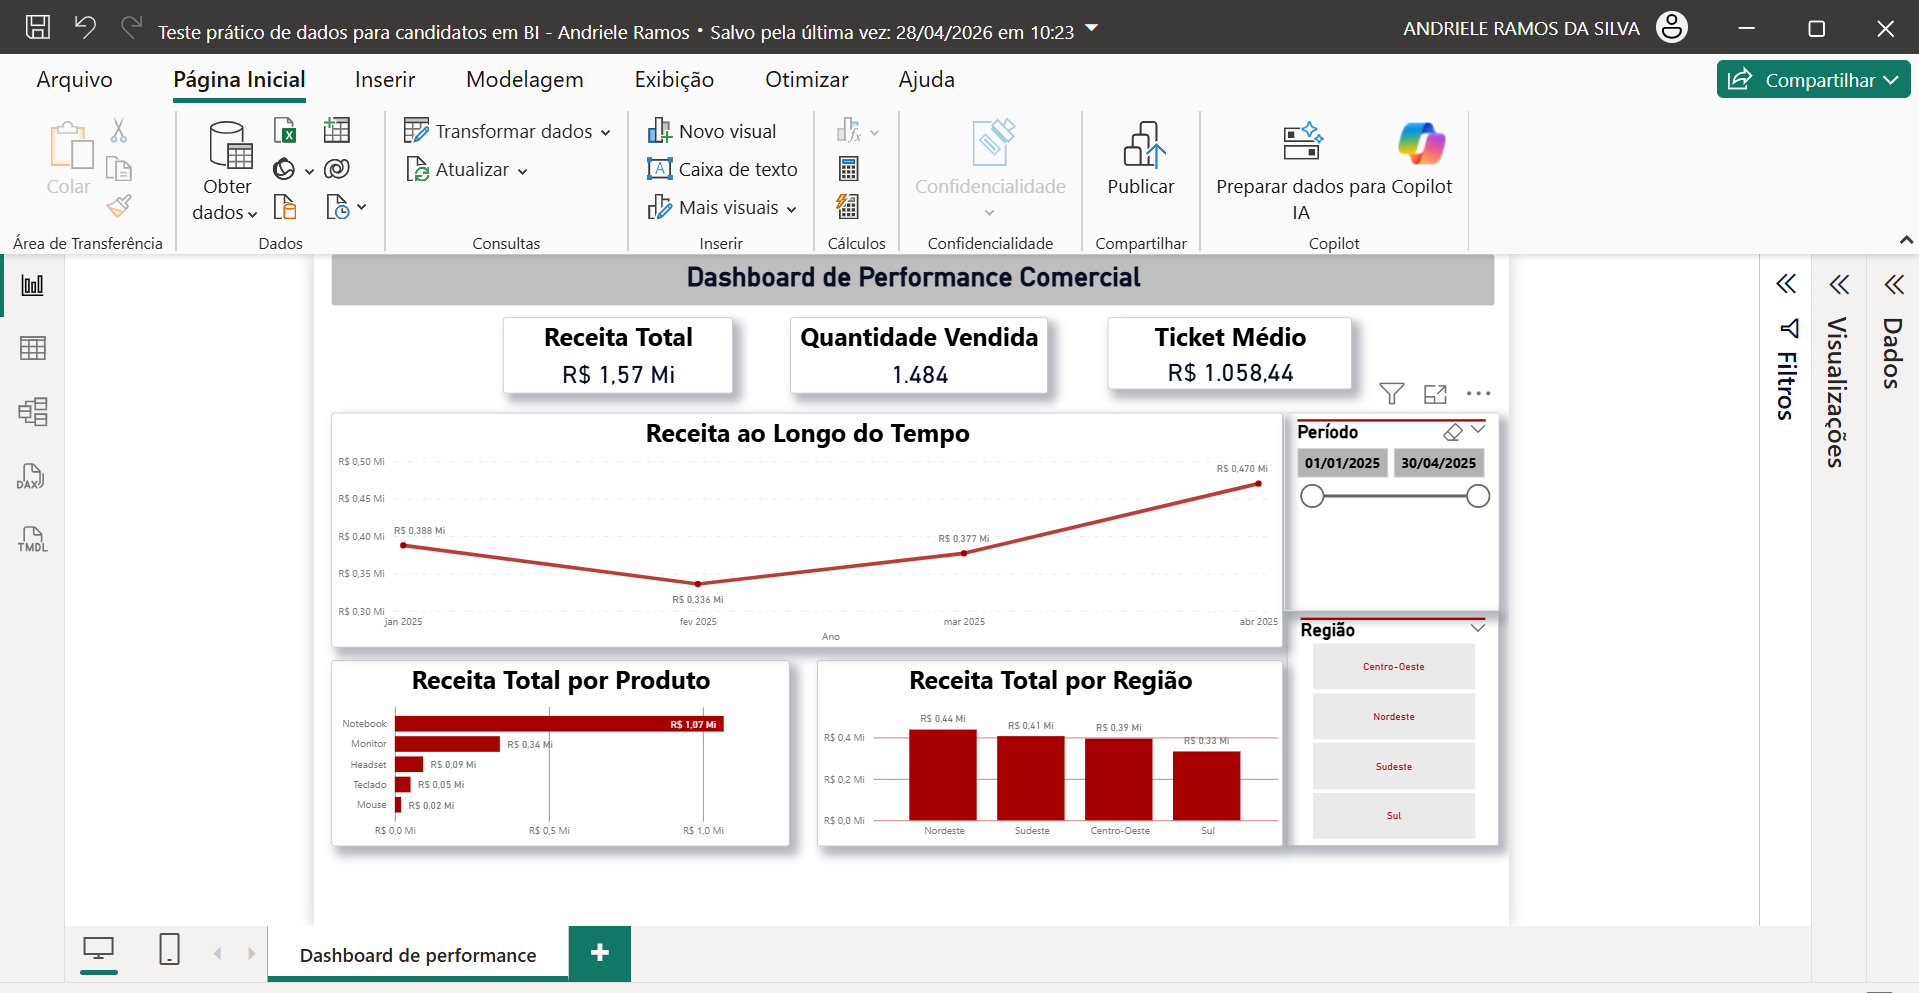

This screenshot's page, from the dashboard's own definition file:
{"tool":"powerbi","page":{"name":"Dashboard de performance","canvas":[1280,720],"ordinal":0},"visuals":[{"type":"textbox","box":[19.1,0,1246.2,55.5],"z":0},{"type":"card","title":"Receita Total","fields":{"Values":["Metas.Receita Total"]},"box":[202.8,67.6,246.1,81.5],"z":1000},{"type":"card","title":"Quantidade Vendida","fields":{"Values":["Metas.Quantidade Vendida"]},"box":[509.6,67.6,275.6,81.5],"z":2000},{"type":"card","title":"Ticket Médio","fields":{"Values":["Metas.Ticket Médio"]},"box":[851.1,67.6,261.7,77],"z":3000},{"type":"lineChart","title":"Receita ao Longo do Tempo","fields":{"Y":["Metas.Receita Total"],"Category":["Vendas.Data.Variation.Hierarquia de datas.Ano","Vendas.Data.Variation.Hierarquia de datas.Mês"]},"box":[19.1,169.9,1019.2,251.3],"z":4000},{"type":"clusteredBarChart","fields":{"Y":["Metas.Receita Total"],"Category":["Vendas.Produto"]},"box":[19.1,435.1,490.5,199.3],"z":5000},{"type":"clusteredColumnChart","fields":{"Category":["Vendas.Região"],"Y":["Metas.Receita Total"]},"box":[539.1,435.1,499.2,199.3],"z":6000},{"type":"slicer","fields":{"Values":["Vendas.Data"]},"box":[1038.3,169.9,230.5,213.2],"z":7000},{"type":"slicer","fields":{"Values":["Vendas.Região"]},"box":[1041.7,383.1,227.1,251.3],"z":8000}]}

Visuals, with their boxes on the page's 1280x720 design canvas (x1, y1, x2, y2). These are canvas units, not pixel positions in the 1919x993 screenshot, which may show the page scaled, cropped or inside an application window:
textbox: locate(19, 0, 1265, 56)
"Receita Total" card: locate(203, 68, 449, 149)
"Quantidade Vendida" card: locate(510, 68, 785, 149)
"Ticket Médio" card: locate(851, 68, 1113, 145)
"Receita ao Longo do Tempo" lineChart: locate(19, 170, 1038, 421)
clusteredBarChart - Metas.Receita Total x Vendas.Produto: locate(19, 435, 510, 634)
clusteredColumnChart - Vendas.Região x Metas.Receita Total: locate(539, 435, 1038, 634)
slicer - Vendas.Data: locate(1038, 170, 1269, 383)
slicer - Vendas.Região: locate(1042, 383, 1269, 634)
